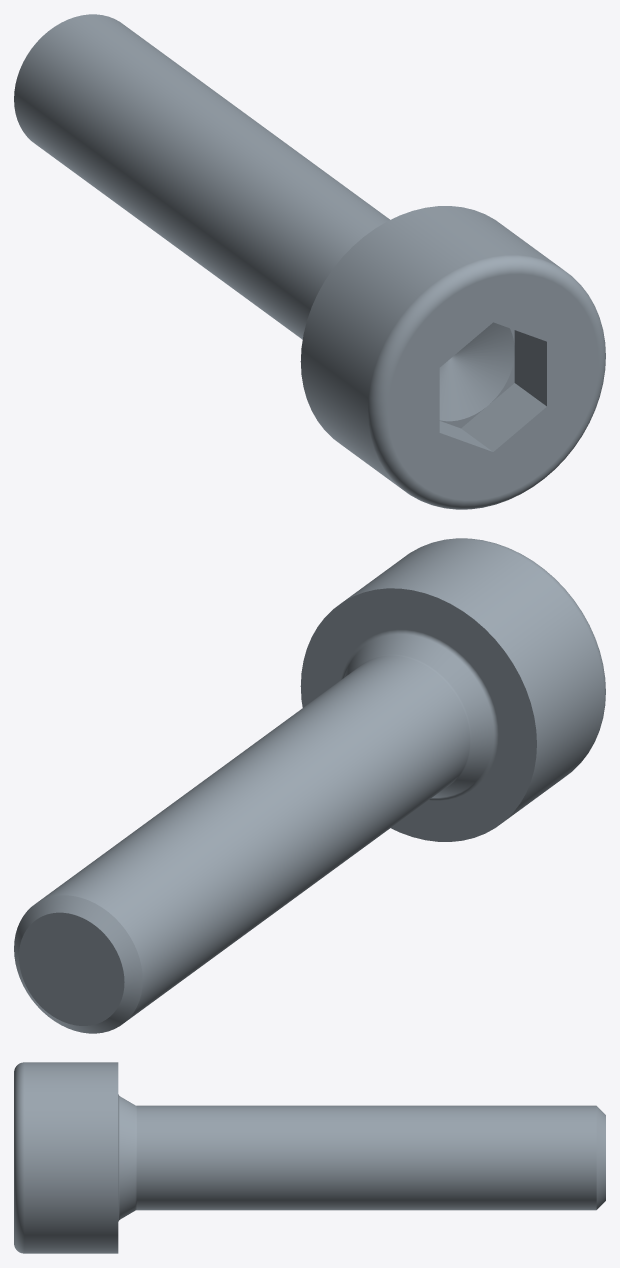
Rendered from Hex_socket_head_cap_screw_M3x0_50_x_14.obj.
3 renders of one model, top to bottom at view 1: azimuth 30°, elevation 25°; view 2: azimuth 150°, elevation 25°; view 3: azimuth 270°, elevation 25°, orthographic. The views are drawn at different scales.
Visible parts, largest first — view 1: mesh3152, mesh3159, mesh3157, mesh3158, mesh3167, mesh3165, mesh3160; view 2: mesh3152, mesh3157, mesh3156, mesh3150, mesh3154, mesh3151, mesh3155, mesh3158; view 3: mesh3152, mesh3157, mesh3158, mesh3154, mesh3151, mesh3155, mesh3153.
Boxes of the visible parts, box(x1,y1,x2,y2) form: mesh3152: box(14, 14, 389, 339); mesh3159: box(388, 274, 598, 500); mesh3157: box(300, 206, 560, 487); mesh3158: box(367, 255, 605, 509); mesh3167: box(439, 322, 514, 421); mesh3165: box(461, 383, 546, 451); mesh3160: box(514, 330, 546, 406); mesh3152: box(38, 655, 469, 1021); mesh3157: box(343, 539, 603, 820); mesh3156: box(300, 588, 536, 841); mesh3150: box(19, 912, 124, 1025); mesh3154: box(344, 634, 493, 797); mesh3151: box(14, 895, 142, 1033); mesh3155: box(340, 629, 498, 800); mesh3158: box(421, 538, 605, 762); mesh3152: box(137, 1105, 596, 1210); mesh3157: box(24, 1062, 118, 1253); mesh3158: box(14, 1062, 24, 1253); mesh3154: box(120, 1096, 135, 1219); mesh3151: box(596, 1106, 605, 1209); mesh3155: box(118, 1094, 120, 1221); mesh3153: box(135, 1105, 137, 1210).
Bounding box in the file's own units: 0.0055 × 0.00549 × 0.017.
